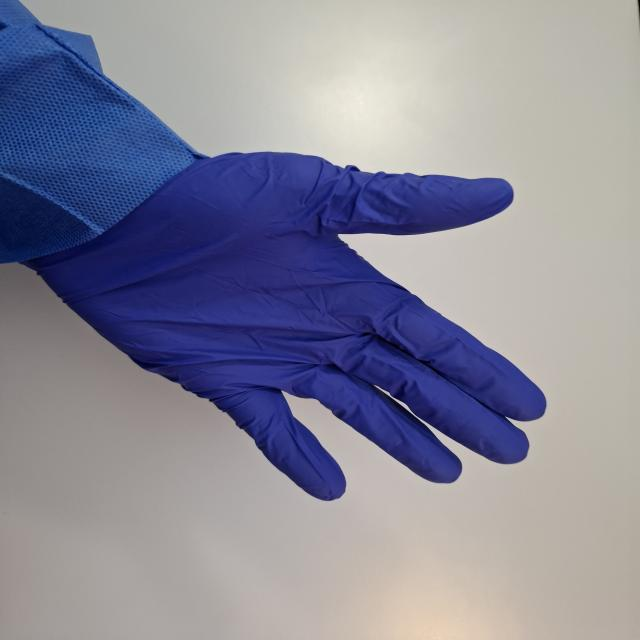glove_on: (20, 138, 552, 501)
